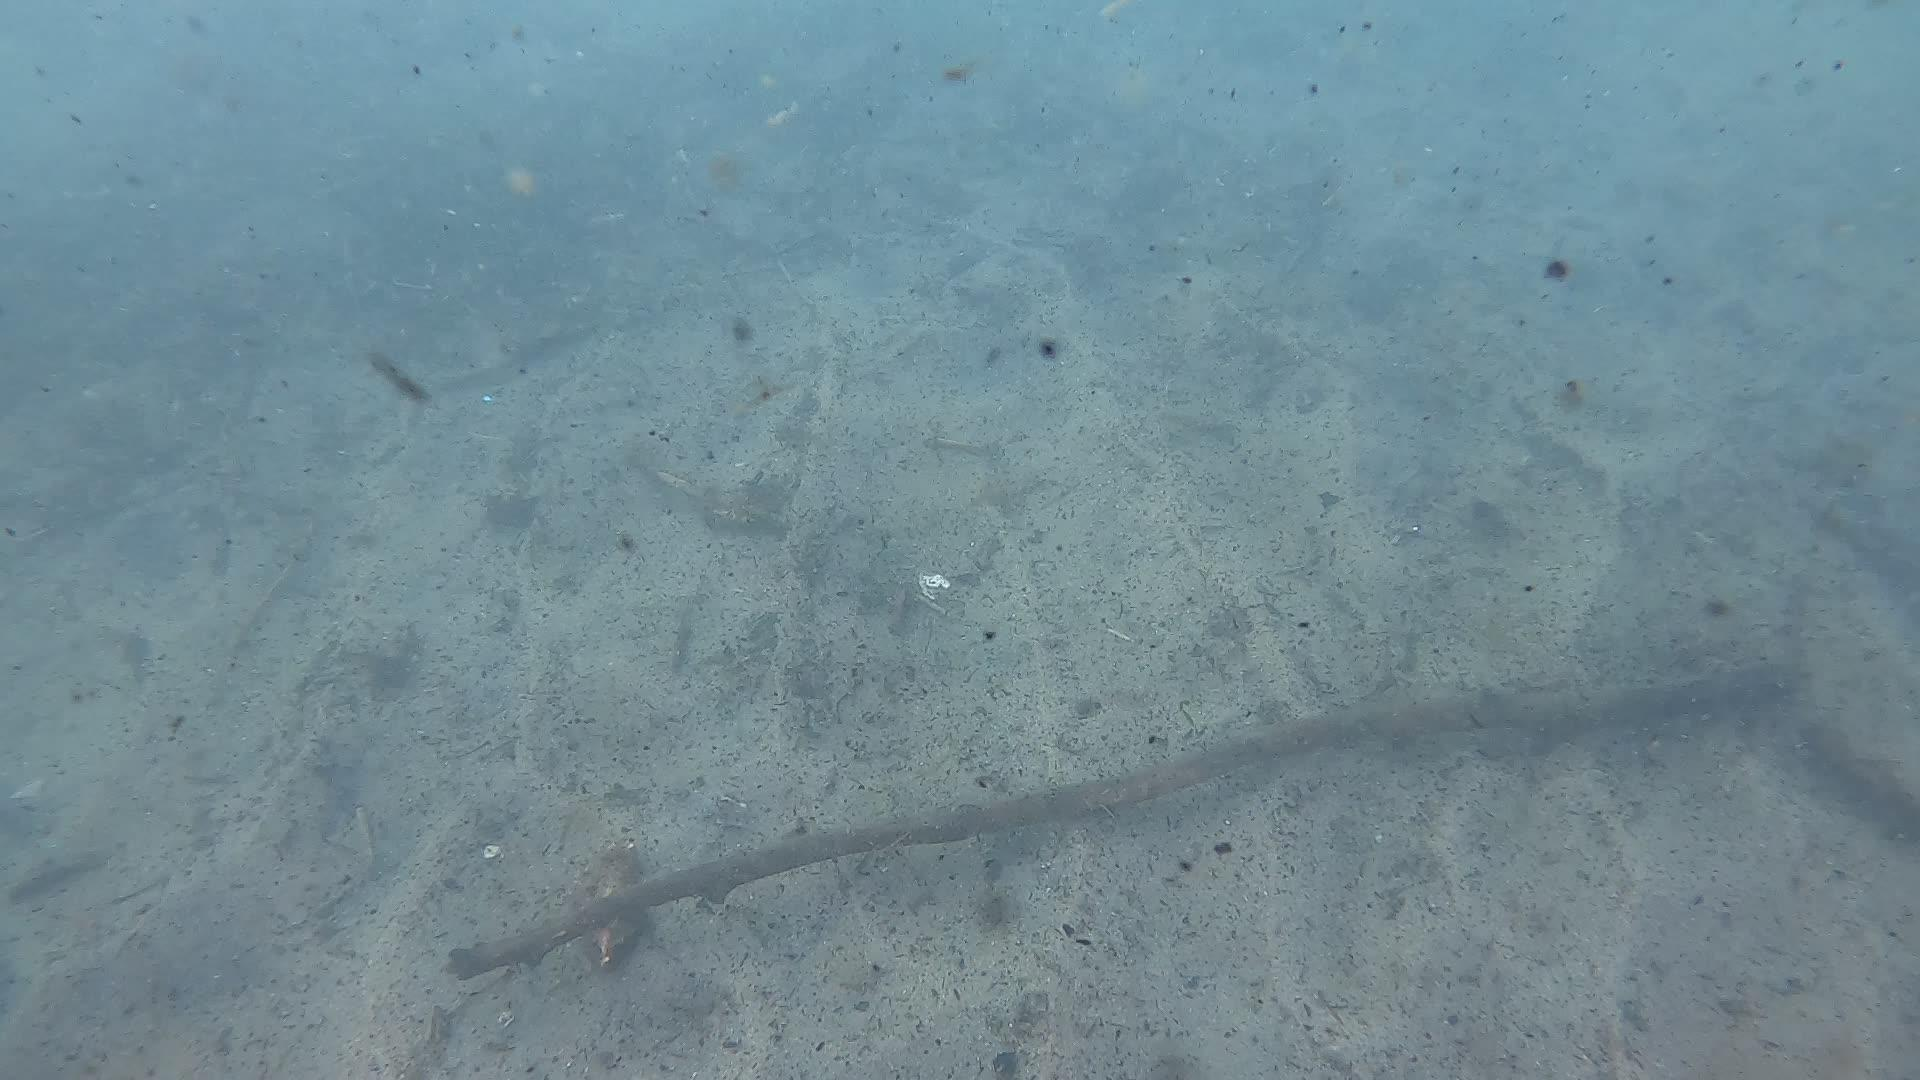wood: (440, 659, 1809, 982)
